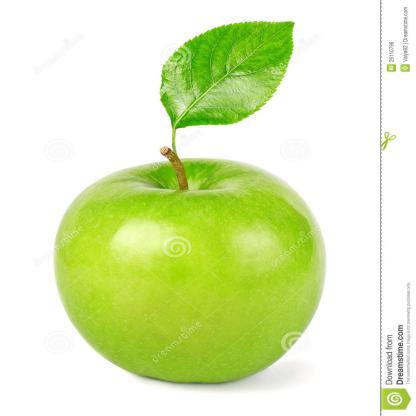Apple leaf: (153, 14, 300, 140)
